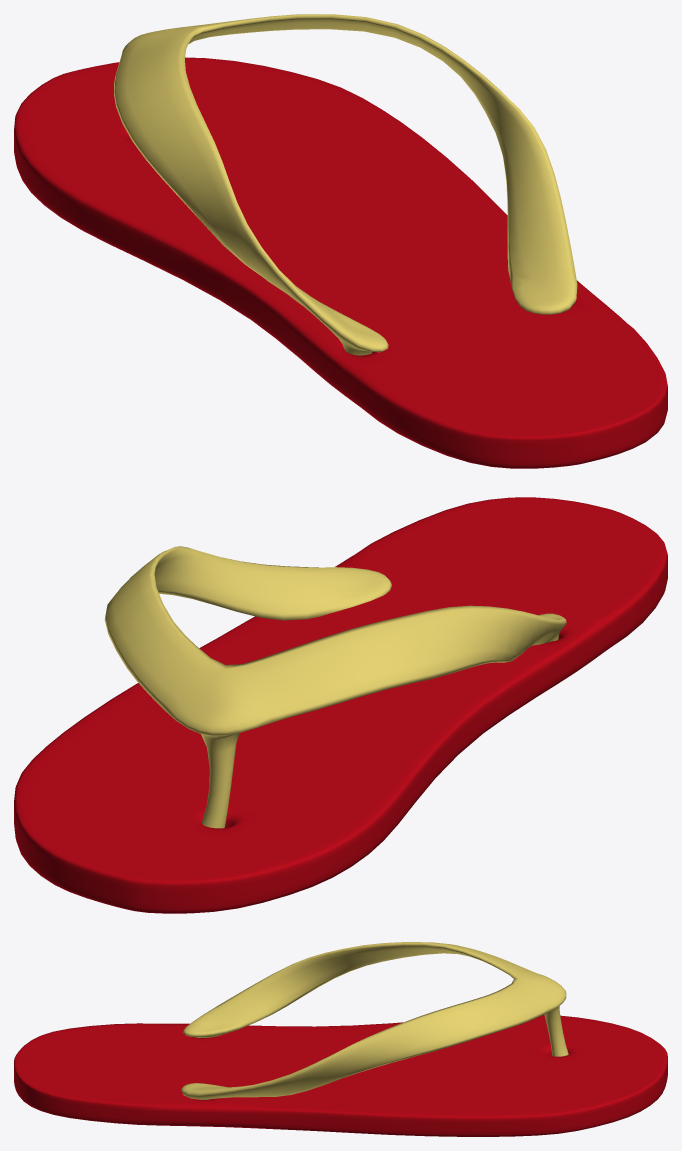
The model's file is sendal.fbx.
3 views of the same model, one above another, from view 1: azimuth 30°, elevation 25°; view 2: azimuth 150°, elevation 25°; view 3: azimuth 270°, elevation 25° (orthographic). The views are drawn at different scales.
Visible parts, largest first — view 1: alas, tali; view 2: alas, tali; view 3: alas, tali.
Part boxes in pixels (box(x1,y1,x2,y2)): alas: box(14, 57, 667, 468); tali: box(114, 14, 577, 355); alas: box(14, 497, 667, 913); tali: box(104, 546, 566, 828); alas: box(14, 1015, 667, 1136); tali: box(181, 942, 568, 1099).
Bounding box in the file's own units: 266 × 135 × 701.
